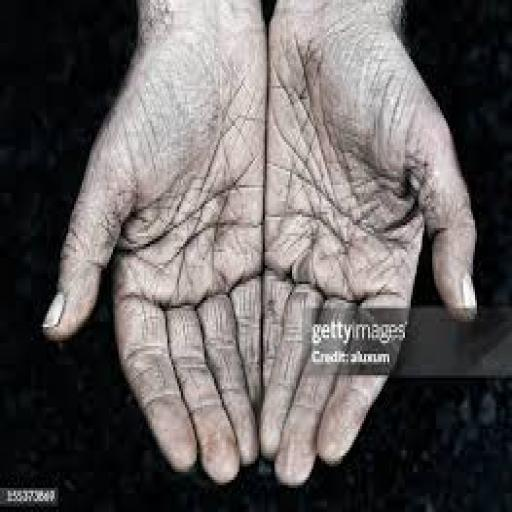Open_Palm: (17, 4, 512, 506)
